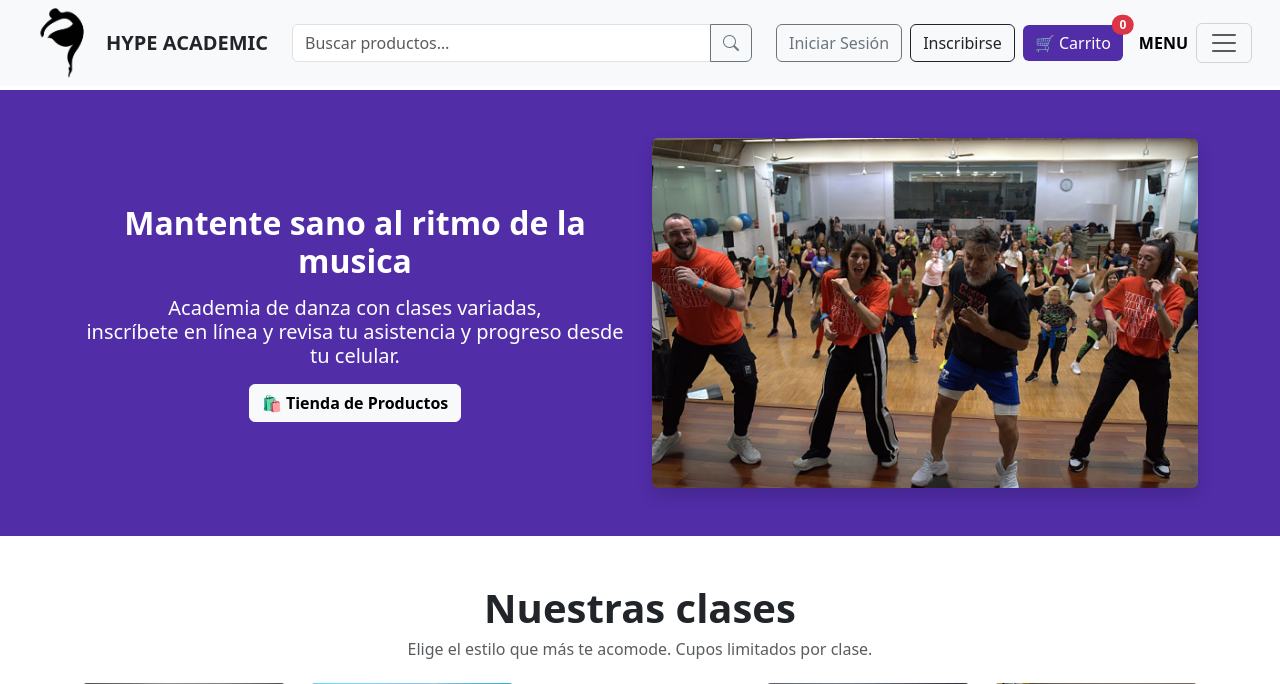
Scenario: App (sesión y checkout como página) › un inicio de sesión incorrecto muestra un error
Click the button "Iniciar Sesión". click: (839, 43)
box: [776, 24, 902, 62]
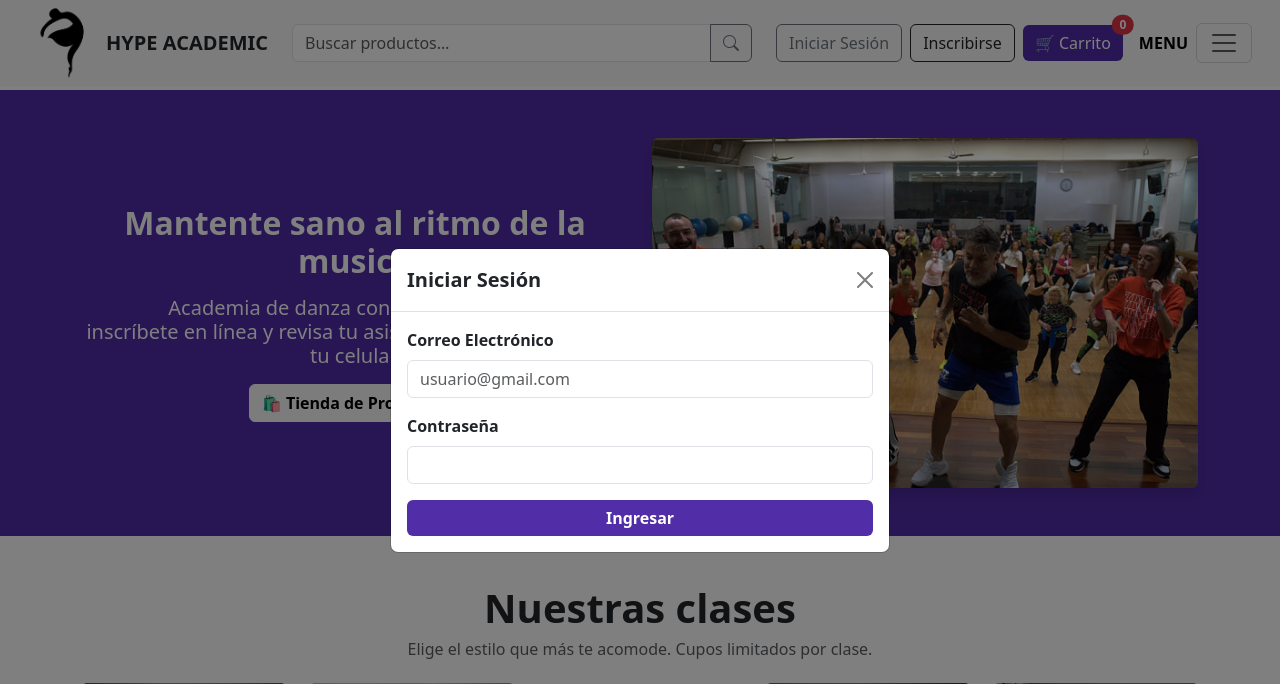
Type "ana@gmail.com" into the field labelled "Correo Electrónico". click: (640, 378)
box: [407, 360, 873, 398]
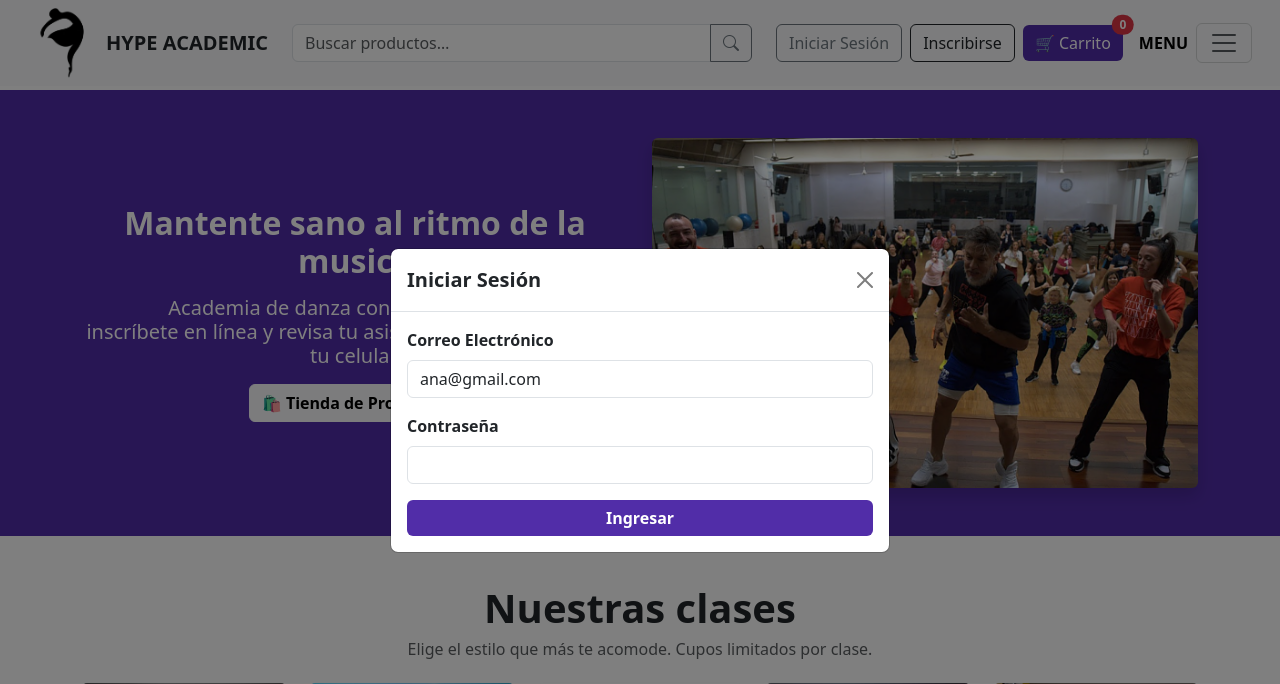
Type "zzzz" into the password field labelled "Contraseña". click: (640, 464)
box: [407, 446, 873, 484]
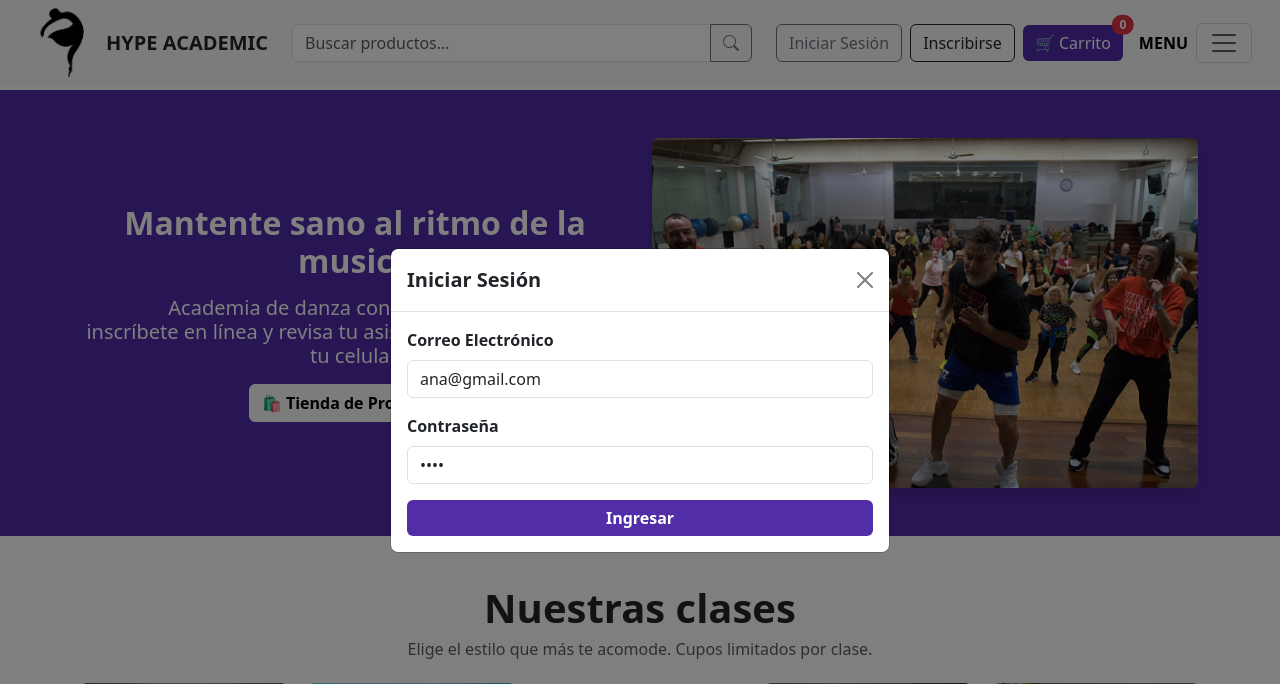
Click the button "Ingresar". click: (640, 518)
box: [407, 500, 873, 536]
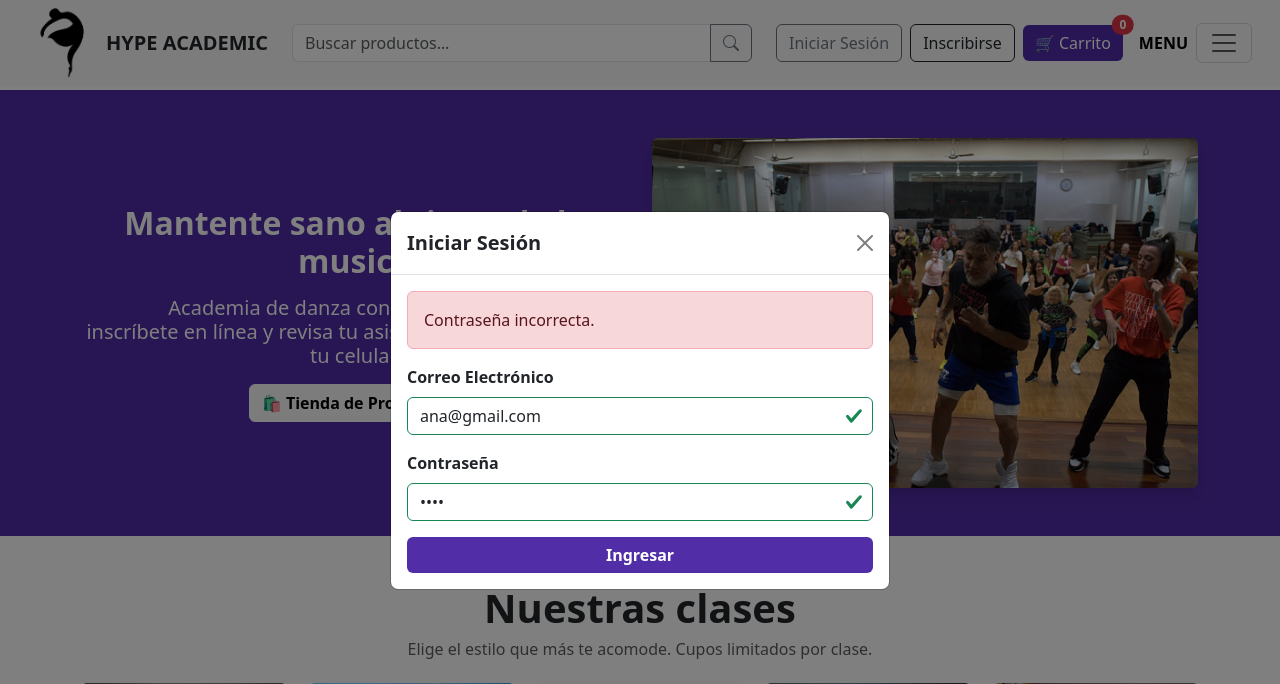
Now the text "Contraseña incorrecta." is shown, box [407, 290, 873, 348]
